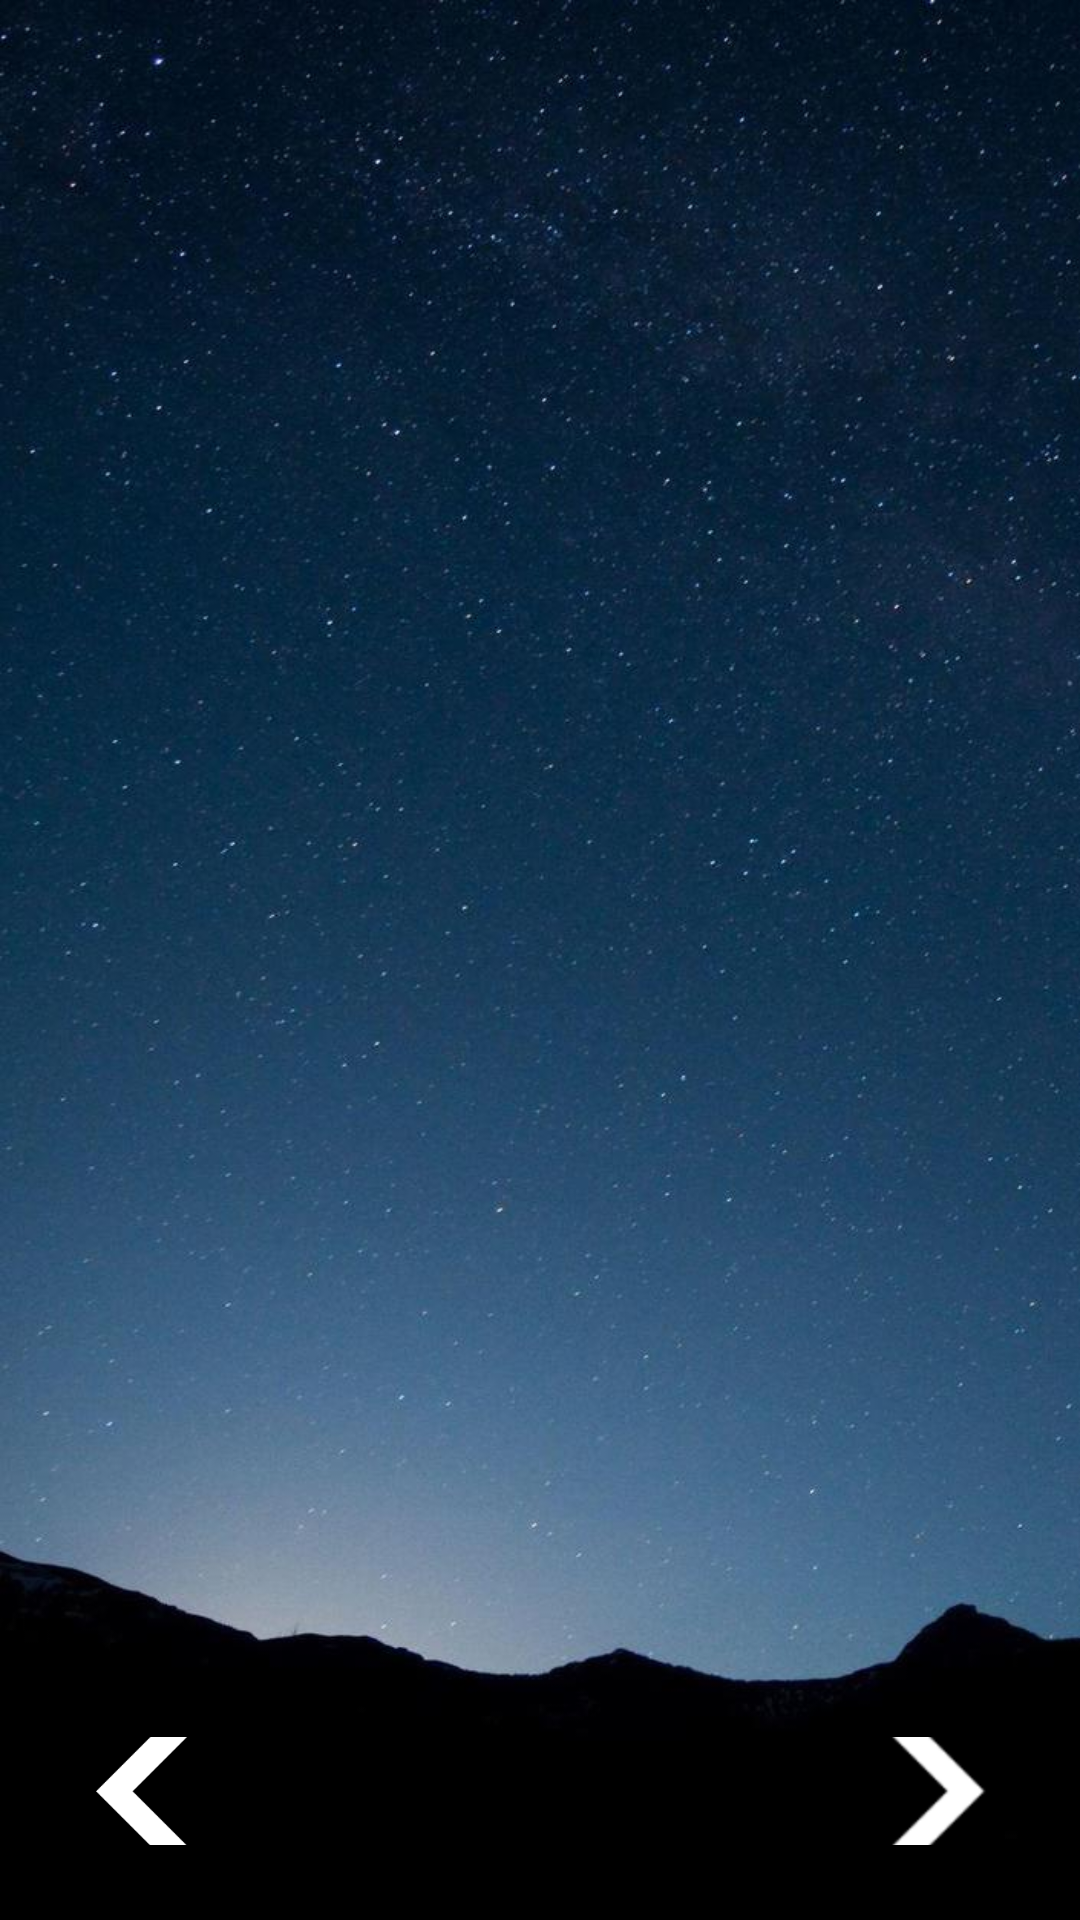

Where to tap for icons on this 1080px x 1920px app screen, as (x,y):
intro keyboard arrow left: (141,1791)
intro keyboard arrow right: (938,1791)
